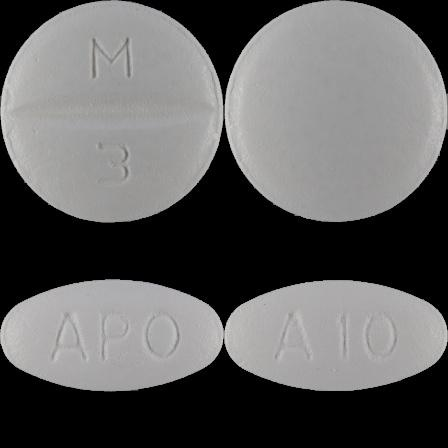68645-479: (0, 0, 224, 224)
